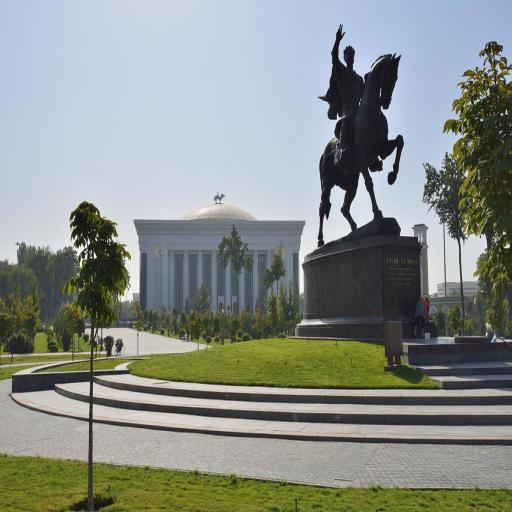horse: (316, 50, 405, 247)
